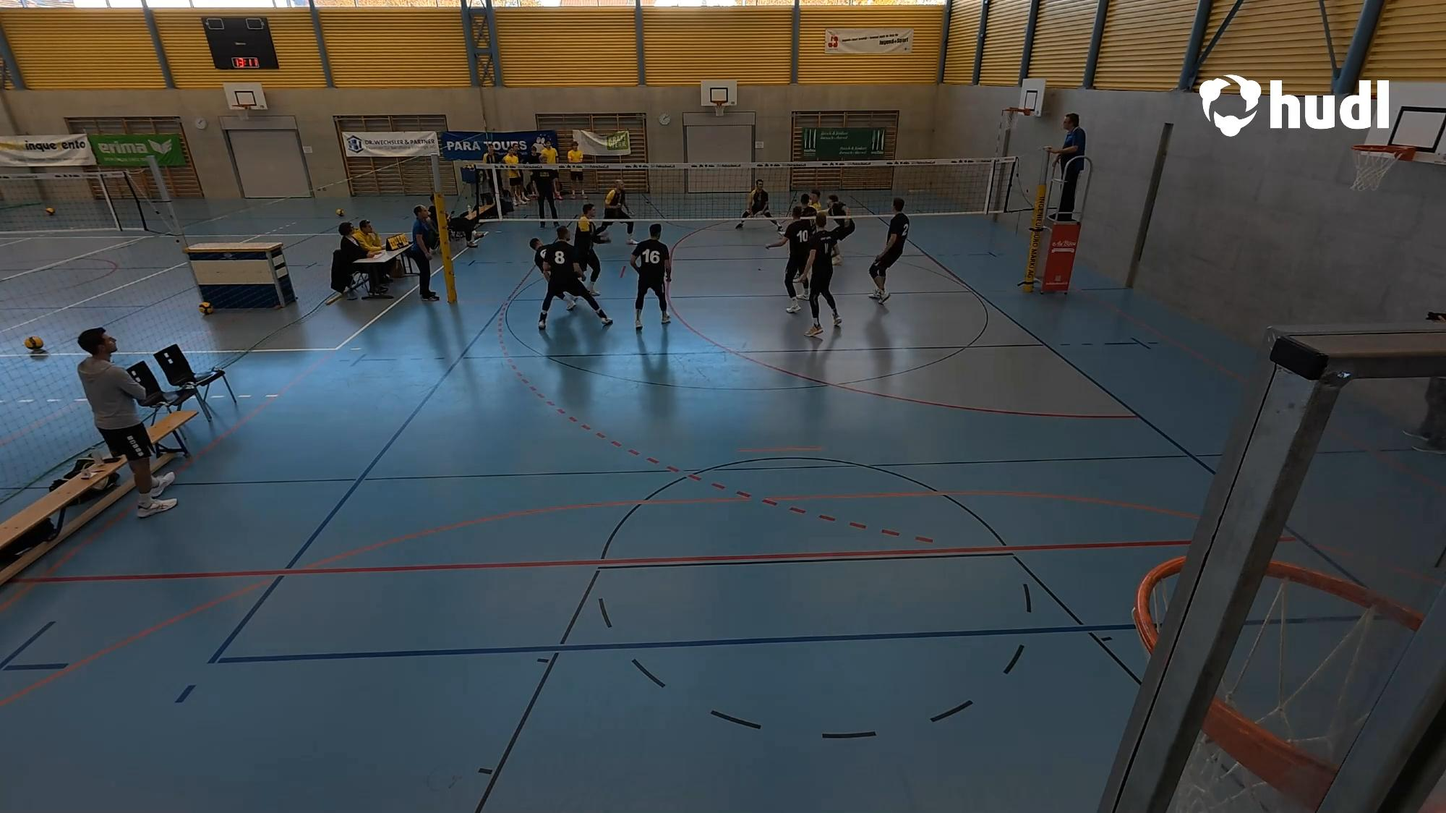Player: (526, 221, 614, 331), (795, 221, 841, 336), (627, 219, 673, 326), (570, 200, 612, 310), (864, 200, 907, 305), (769, 203, 811, 300), (816, 190, 856, 260), (732, 175, 776, 234), (600, 174, 633, 244)
